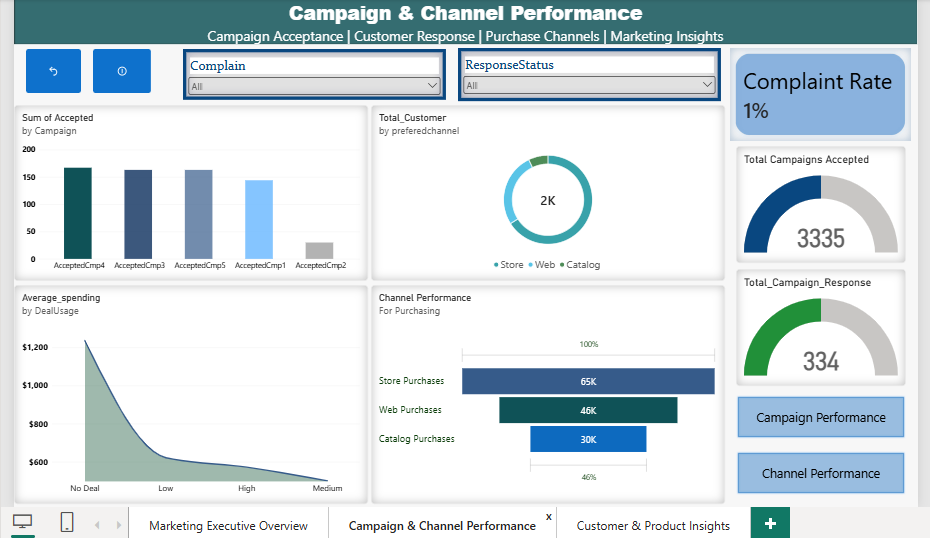

Layout of this report page (visuals, bound fields, positions):
{"tool":"powerbi","page":{"name":"Campaign & Channel Performance","canvas":[1920,1080],"ordinal":1},"visuals":[{"type":"gauge","fields":{"Y":["marketing_data.Total Campaigns Accepted"]},"box":[1535,312.5,361.4,248.7],"z":0},{"type":"donutChart","fields":{"Category":["marketing_data.referedchannel"],"Y":["marketing_data.Total_Customer"]},"box":[759,224.7,752.6,374.2],"z":1000},{"type":"areaChart","fields":{"Category":["marketing_data.DealUsage"],"Y":["marketing_data.Average_spending"]},"box":[0,608.4,752.6,465.6],"z":2000},{"type":"funnel","title":"Channel Performance ","fields":{"Y":["marketing_data.Store Purchases","marketing_data.Web Purchases","marketing_data.Catalog Purchases"]},"box":[759,608.4,752.6,465.6],"z":3000},{"type":"columnChart","fields":{"Category":["marketing_data.Campaign"],"Y":["Sum(marketing_data.Accepted)"]},"box":[0,224.7,752.6,374.2],"z":4000},{"type":"slicer","fields":{"Values":["marketing_data.Complain"]},"box":[359.3,106.6,559.1,108.4],"z":5000},{"type":"slicer","fields":{"Values":["marketing_data.ResponseStatus"]},"box":[943.9,104.4,559.1,112.7],"z":6000},{"type":"gauge","fields":{"Y":["marketing_data.Total_Campaign_Response"]},"box":[1535,574,361.4,248.7],"z":7000},{"type":"shape","title":"Campaign & Channel Performance","box":[0,0,1919.8,95.7],"z":8000},{"type":"cardVisual","fields":{"Data":["marketing_data.Complaint Rate"]},"box":[1522.2,104.2,384.8,197.7],"z":9000},{"type":"shape","box":[1535,842.2,361.4,93.5],"z":10000},{"type":"shape","box":[1535,961.3,361.4,93.5],"z":11000},{"type":"actionButton","box":[25.5,106.3,116.9,93.5],"z":12000},{"type":"actionButton","box":[168,106.3,123.3,93.5],"z":13000}]}

Visuals, with their boxes on the page's 1920x1080 design canvas (x1, y1, x2, y2). These are canvas units, not pixel positions in the 930x538 screenshot, which may show the page scaled, cropped or inside an application window:
gauge - marketing_data.Total Campaigns Accepted: (1535,312,1896,561)
donutChart - marketing_data.referedchannel x marketing_data.Total_Customer: (759,225,1512,599)
areaChart - marketing_data.DealUsage x marketing_data.Average_spending: (0,608,753,1074)
"Channel Performance " funnel: (759,608,1512,1074)
columnChart - marketing_data.Campaign x Sum(marketing_data.Accepted): (0,225,753,599)
slicer - marketing_data.Complain: (359,107,918,215)
slicer - marketing_data.ResponseStatus: (944,104,1503,217)
gauge - marketing_data.Total_Campaign_Response: (1535,574,1896,823)
"Campaign & Channel Performance" shape: (0,0,1920,96)
cardVisual - marketing_data.Complaint Rate: (1522,104,1907,302)
shape: (1535,842,1896,936)
shape: (1535,961,1896,1055)
actionButton: (26,106,142,200)
actionButton: (168,106,291,200)
